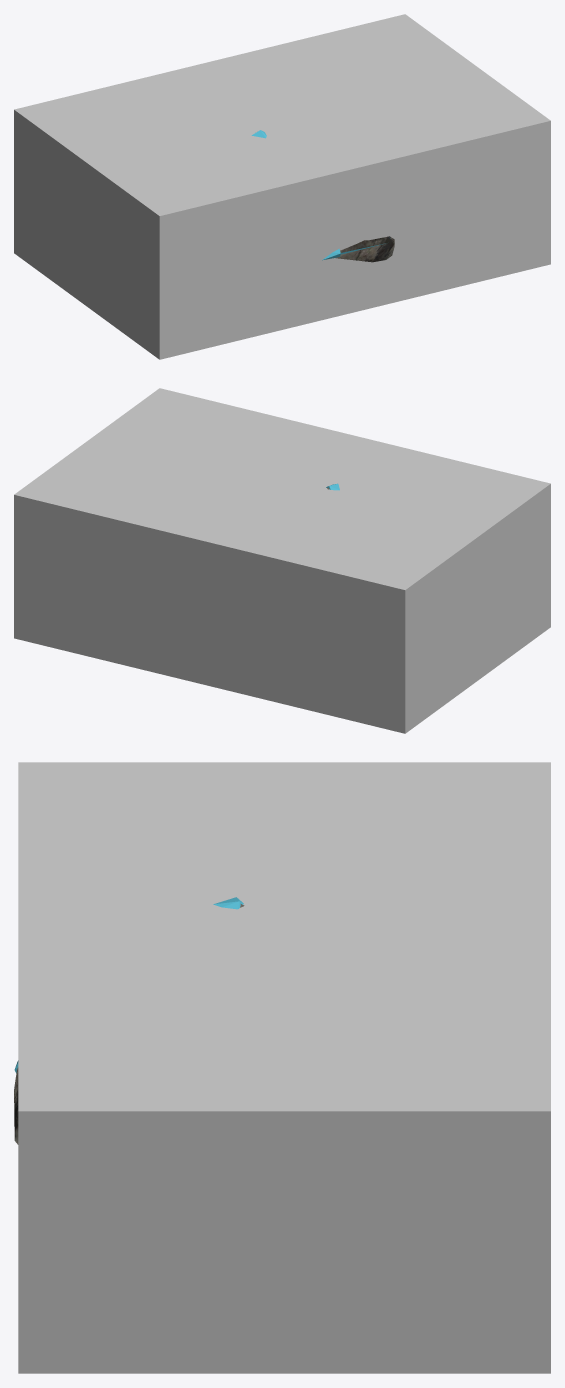
Rendered from 11_groupone.DAE.
3 views of the same model, one above another, from view 1: azimuth 30°, elevation 25°; view 2: azimuth 150°, elevation 25°; view 3: azimuth 270°, elevation 25° (orthographic). The views are drawn at different scales.
Visible parts, largest first — view 1: bounds, groupone400; view 2: bounds; view 3: bounds.
Part boxes in pixels (box(x1,y1,x2,y2)): bounds: box(14, 14, 550, 359); groupone400: box(336, 236, 394, 262); bounds: box(14, 388, 550, 733); bounds: box(18, 762, 550, 1373).
Size of the model in its own units: 10.96 by 7.13 by 3.91.
